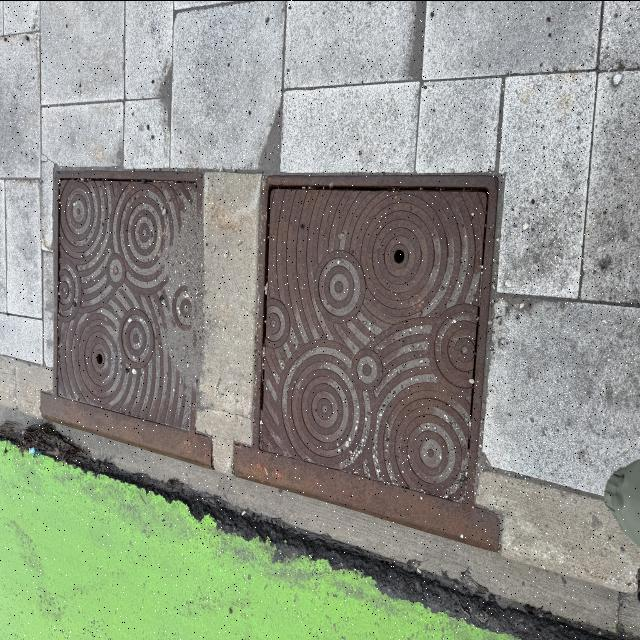Manhole: (252, 174, 500, 488), (51, 168, 197, 442)
